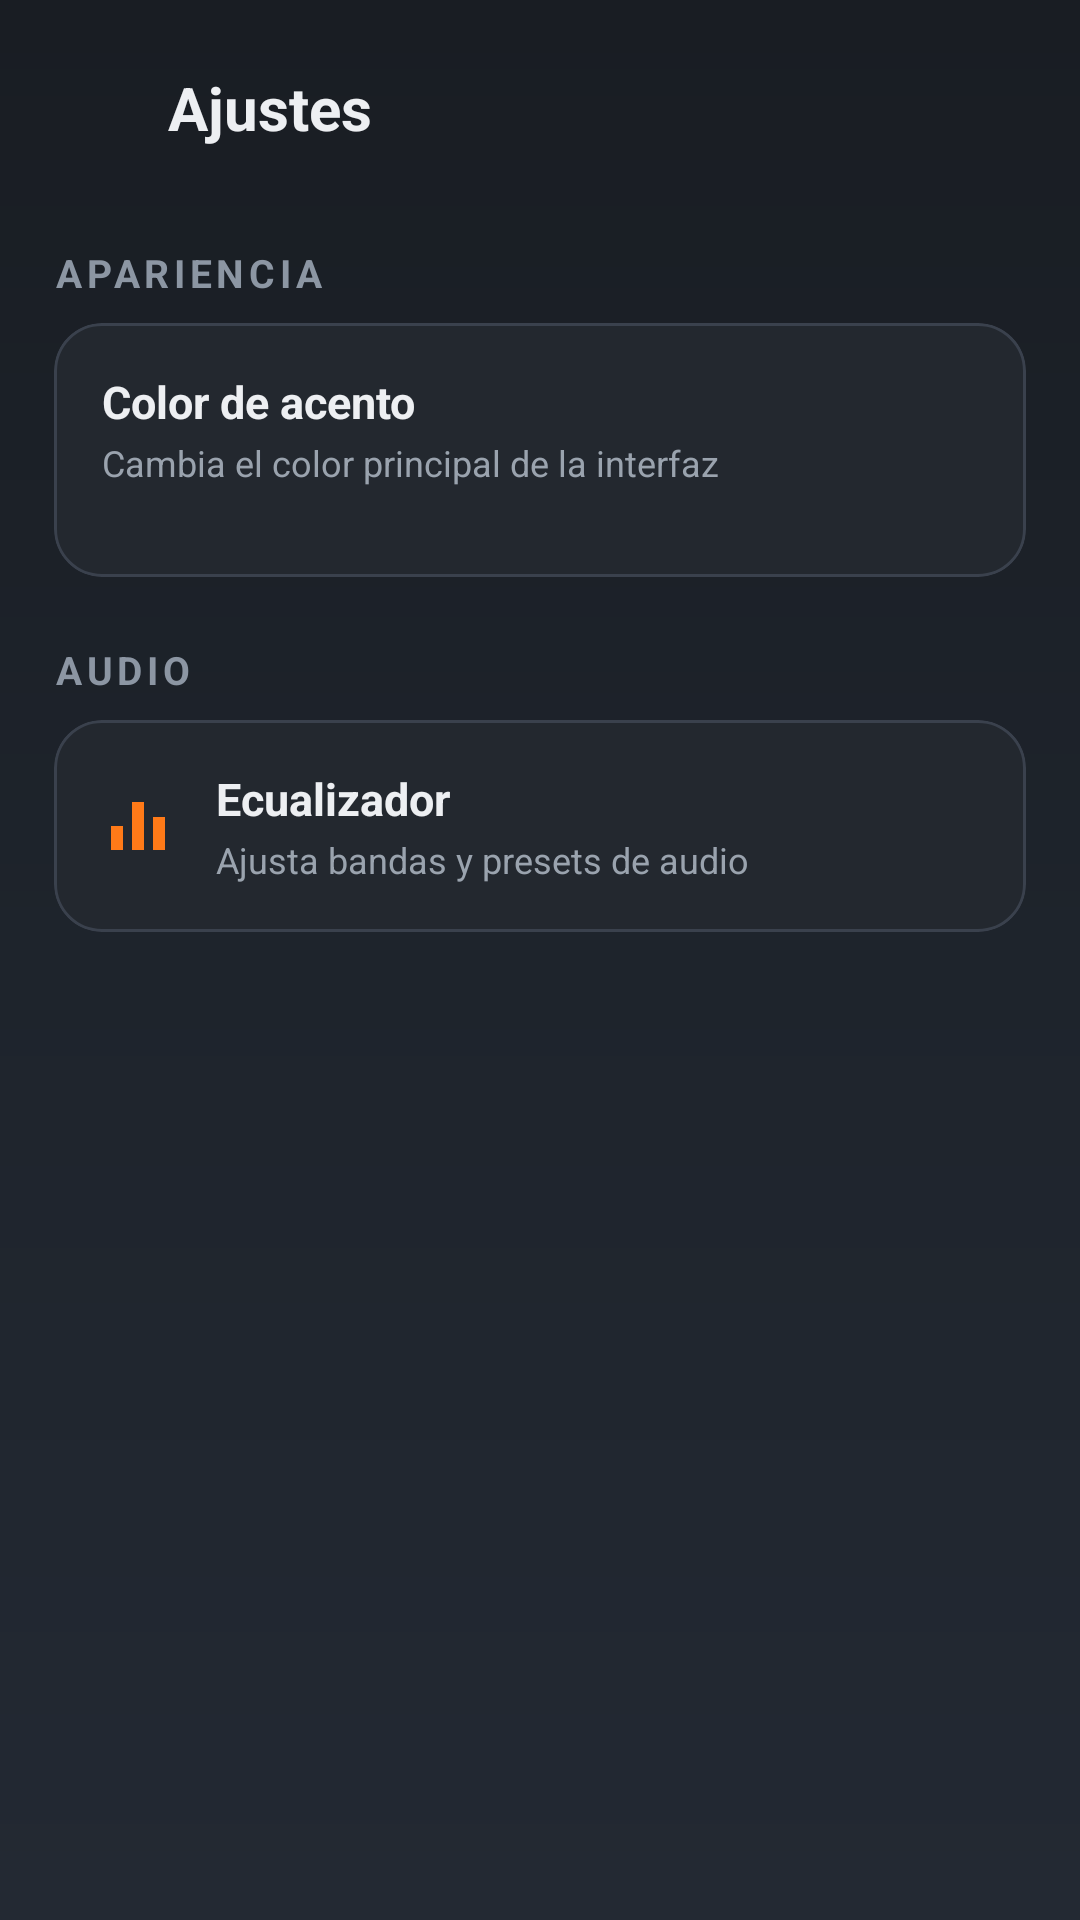

Named icons in this screenshot (1080px x 1920px) and their centers, [x,y]:
equalizer: [138,826]
